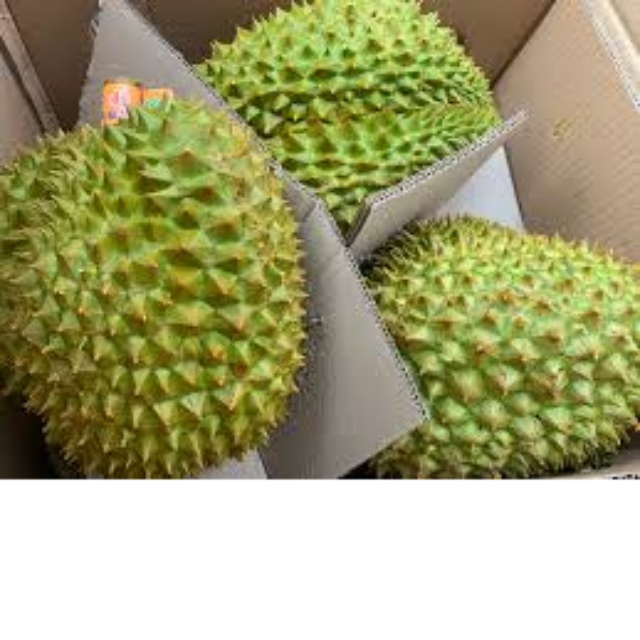sau_rieng: (4, 97, 304, 477), (356, 211, 639, 478), (194, 1, 499, 185)
